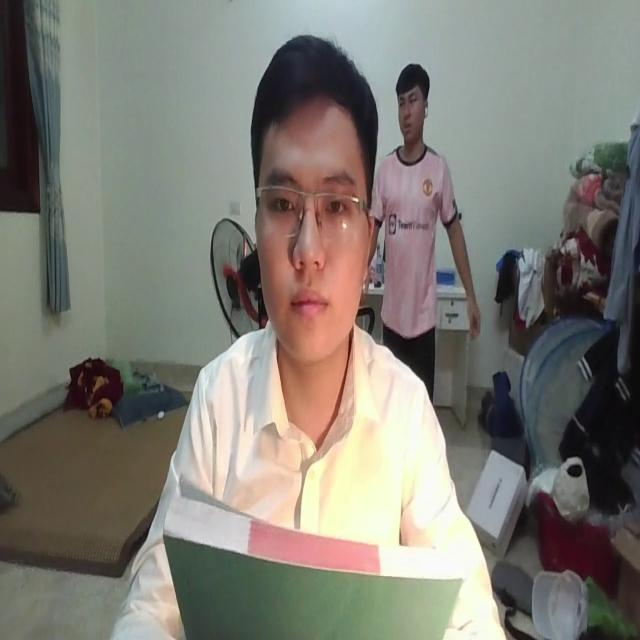book: (162, 457, 468, 640)
extra_person: (371, 50, 480, 366)
student: (114, 34, 509, 640)
